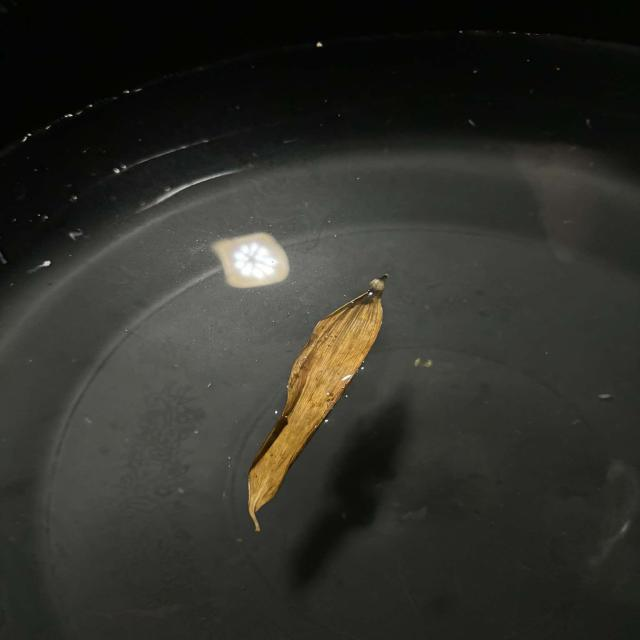Leaf: (248, 275, 387, 532)
